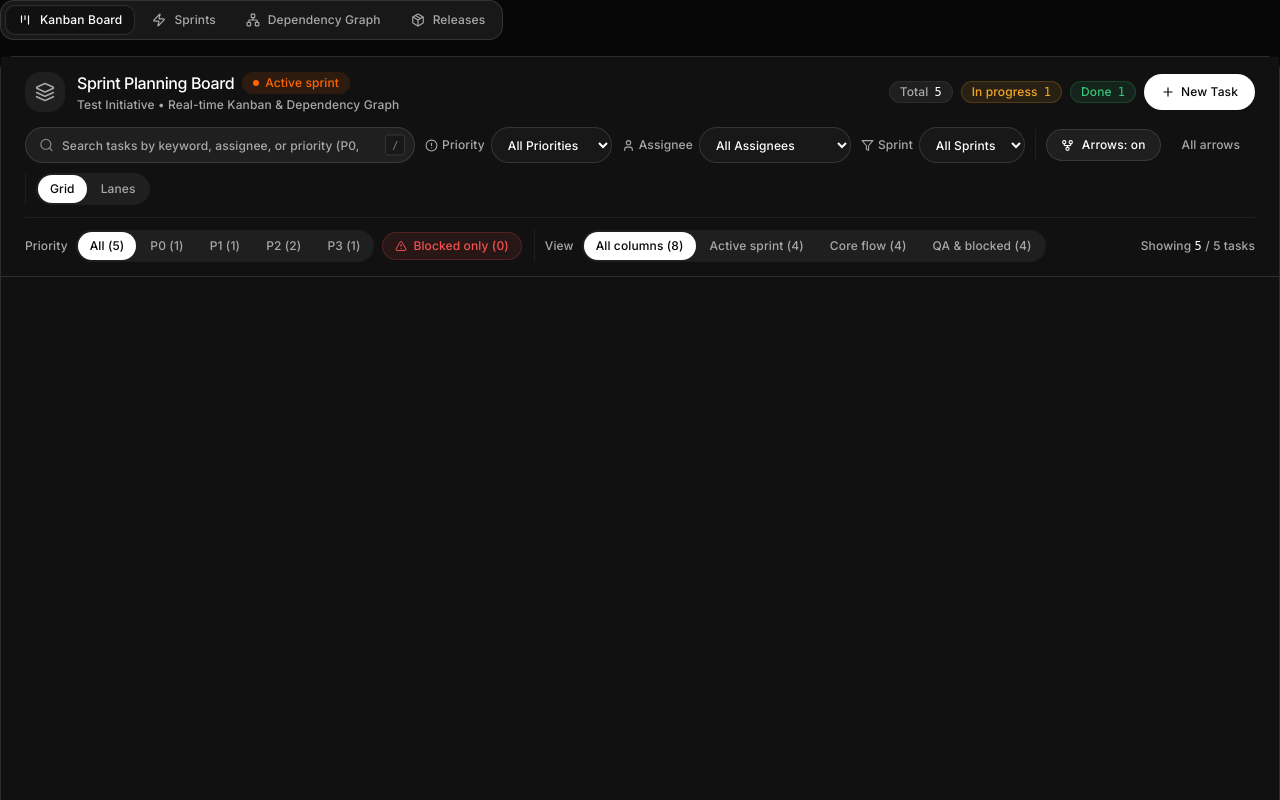
Test case: KanbanTab Search and Filter › filters tasks by priority level dropdown
# Select P1 - HIGH
Select "P1 - High" in the dropdown named "filter by priority level" at (551, 145), box [491, 127, 612, 163]
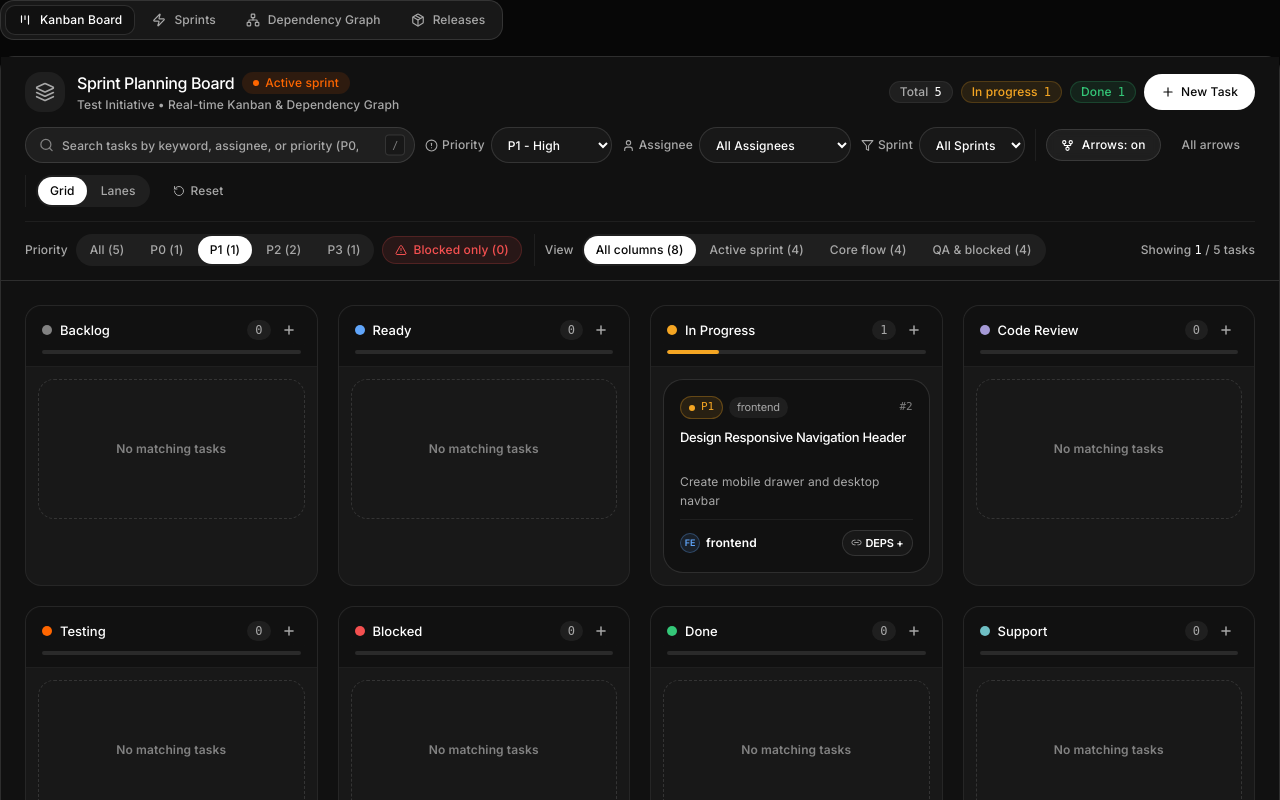
Now the text "Design Responsive Navigation Header" is shown, box [680, 429, 906, 445]
